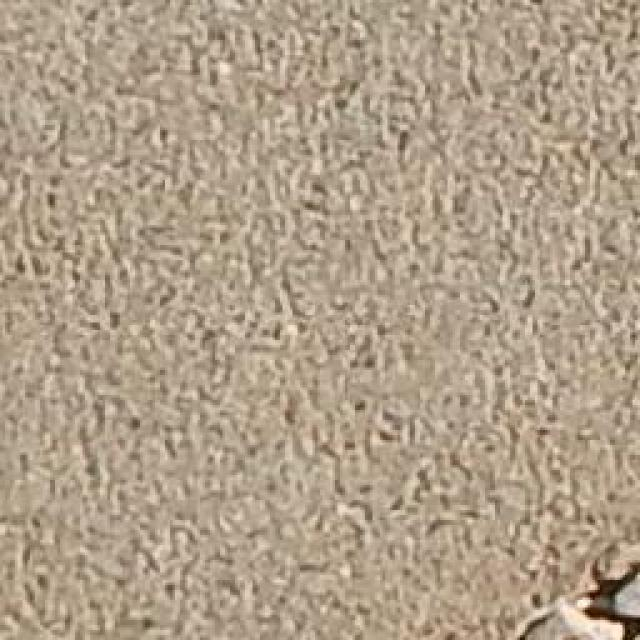concrete-crack: (510, 550, 640, 640)
